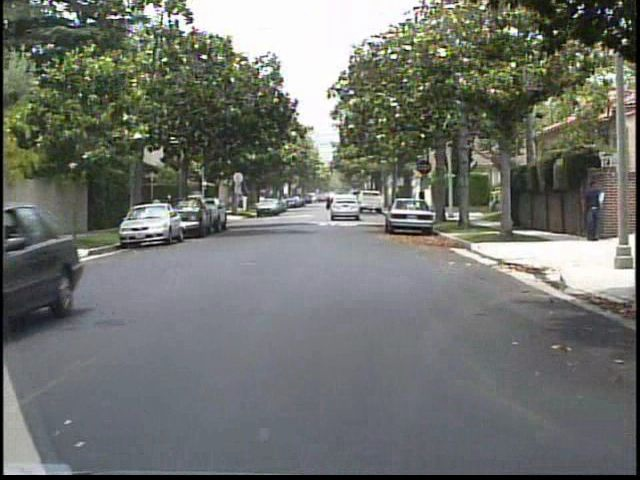person: (578, 176, 605, 246), (152, 193, 168, 230)
